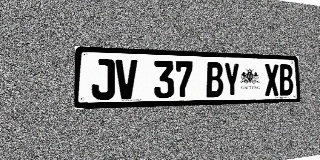3: (154, 60, 174, 99)
7: (174, 61, 193, 98)
B: (206, 62, 223, 97), (279, 64, 293, 96)
J: (91, 58, 115, 100)
V: (116, 59, 138, 100)
X: (264, 64, 279, 96)
Y: (223, 62, 240, 97)
